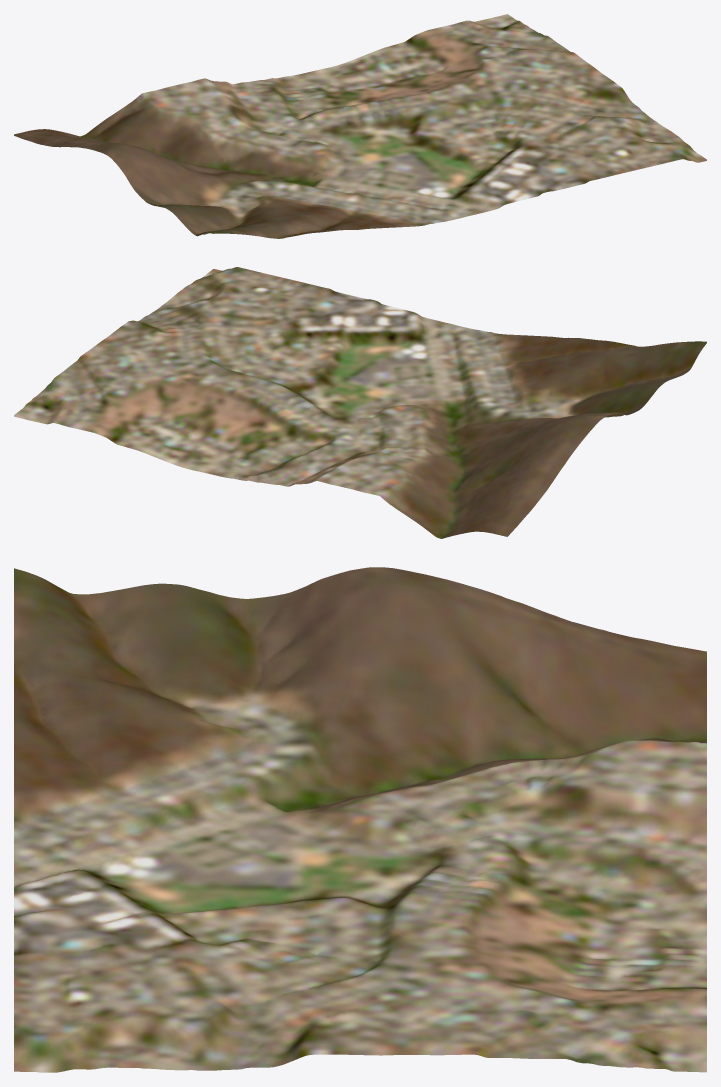
File: terrain_r7_c6.glb
3 views of the same model, one above another, from view 1: azimuth 30°, elevation 25°; view 2: azimuth 150°, elevation 25°; view 3: azimuth 270°, elevation 25° (orthographic). The views are drawn at different scales.
Parts seen in each view (by area): view 1: terrain_r7_c6_lod0; view 2: terrain_r7_c6_lod0; view 3: terrain_r7_c6_lod0.
Boxes of the visible parts, x1,y1,x2,y2 form: terrain_r7_c6_lod0: [14, 14, 706, 238]; terrain_r7_c6_lod0: [14, 267, 706, 538]; terrain_r7_c6_lod0: [14, 567, 706, 1072].
Bounding box in the file's own units: 1125 × 149 × 787.
Materials: 1 (1 with a texture image).
